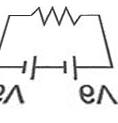resistor: (24, 2, 87, 27)
